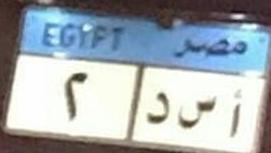2: (60, 71, 90, 122)
alif: (226, 89, 245, 141)
daal: (148, 93, 171, 125)
seen: (177, 94, 218, 132)
